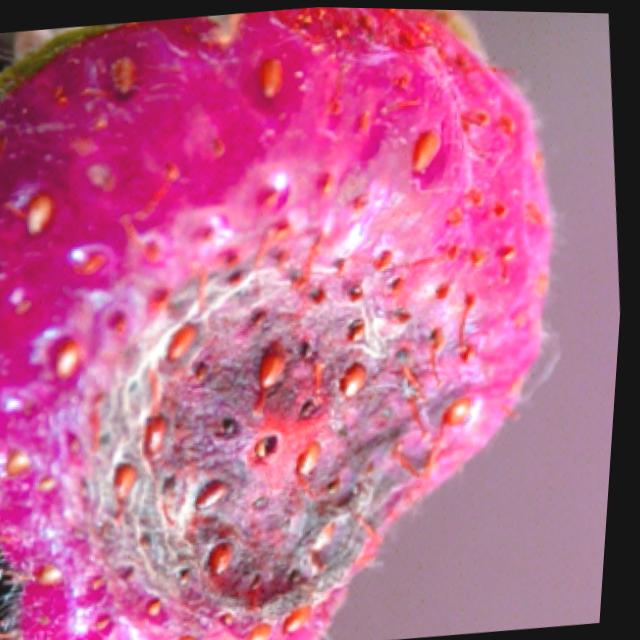Anthracnose Fruit Rot: (68, 141, 494, 640)
